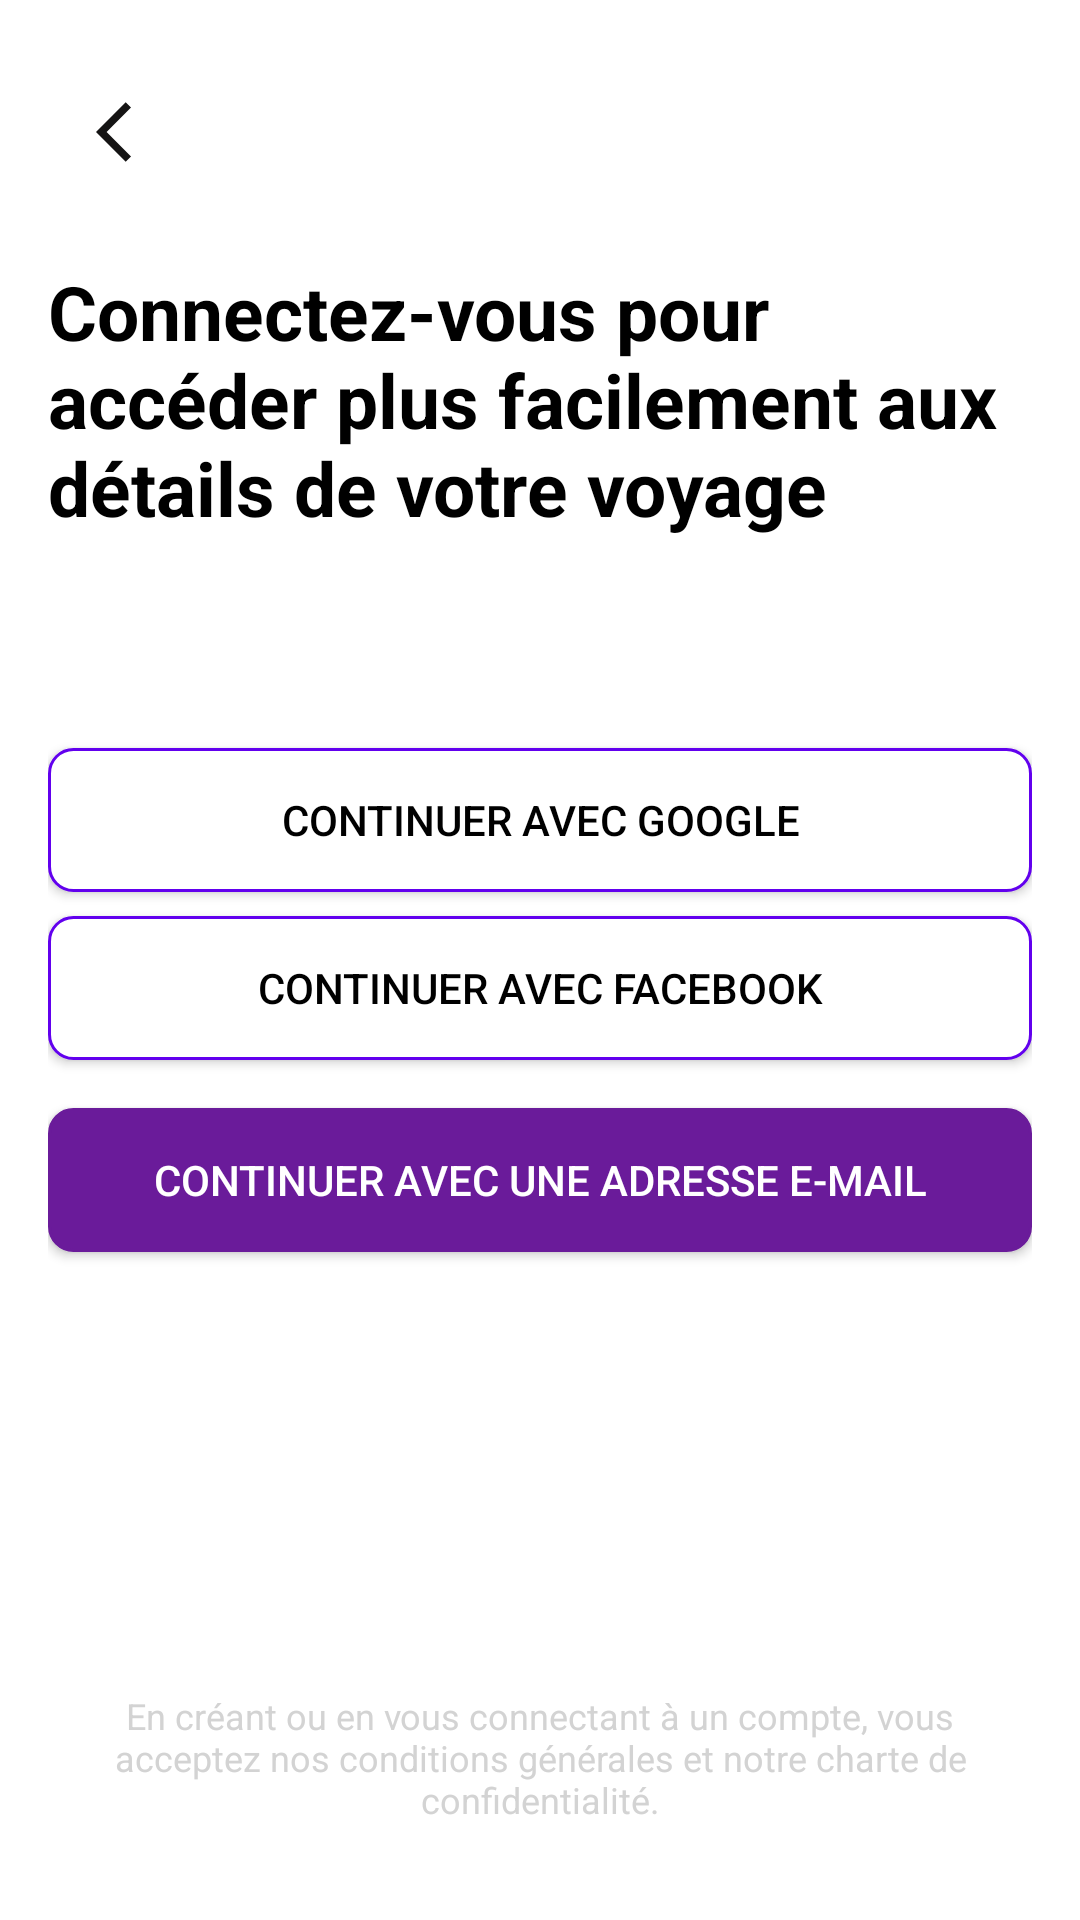

Icon click points for this 1080*1920 phone screenshot, format (x,y):
Retour: (113,132)
